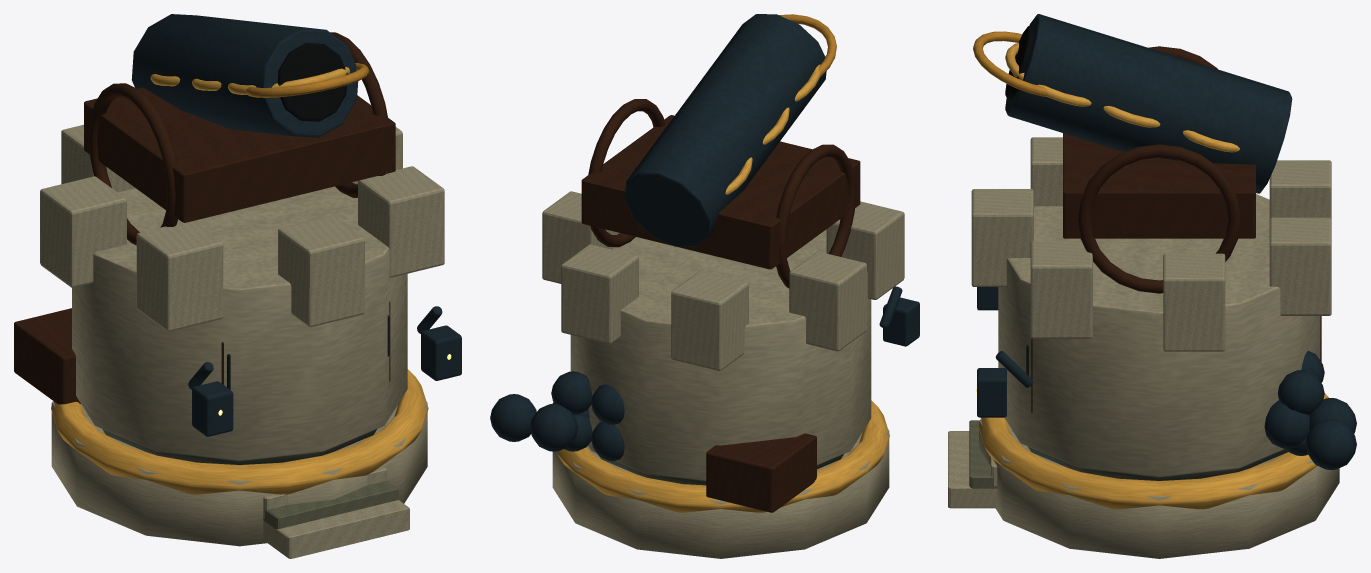
Rendered from tower-cannon-1-base.glb.
3 renders of one model, left to right at view 1: azimuth 30°, elevation 25°; view 2: azimuth 150°, elevation 25°; view 3: azimuth 270°, elevation 25°, orthographic. The views are drawn at different scales.
Parts seen in each view (by area): view 1: Foundation, Turret, cannon-L1-base; view 2: Foundation, Turret, cannon-L1-base; view 3: Foundation, Turret, cannon-L1-base.
Part boxes in pixels (<box>): Foundation: <box>14,124,461,558</box>; Turret: <box>84,14,395,245</box>; cannon-L1-base: <box>51,398,427,546</box>; Foundation: <box>490,191,919,512</box>; Turret: <box>581,14,860,288</box>; cannon-L1-base: <box>552,426,889,558</box>; Foundation: <box>948,137,1356,509</box>; Turret: <box>973,14,1292,293</box>; cannon-L1-base: <box>979,418,1339,558</box>.
Bounding box in the file's own units: 1.71 × 2.39 × 1.91.
Materials: 12 (12 with a texture image).
